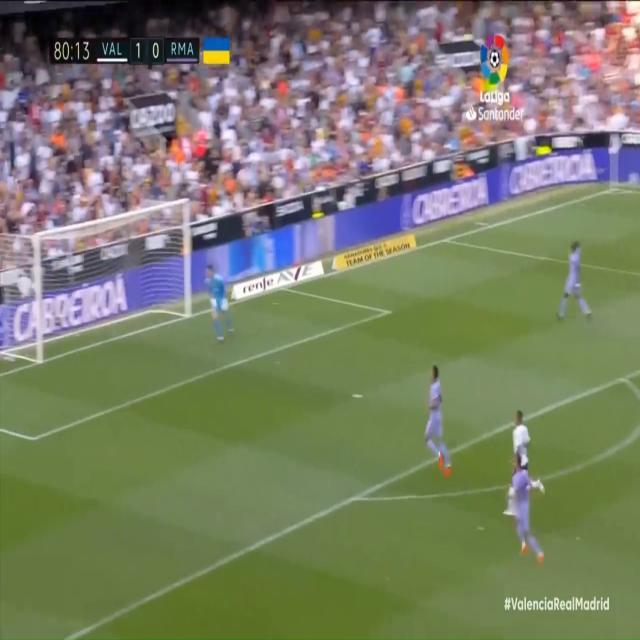goalkeeper: (203, 260, 238, 342)
player: (513, 454, 548, 566), (509, 407, 546, 501), (427, 361, 453, 475), (560, 239, 589, 319)
